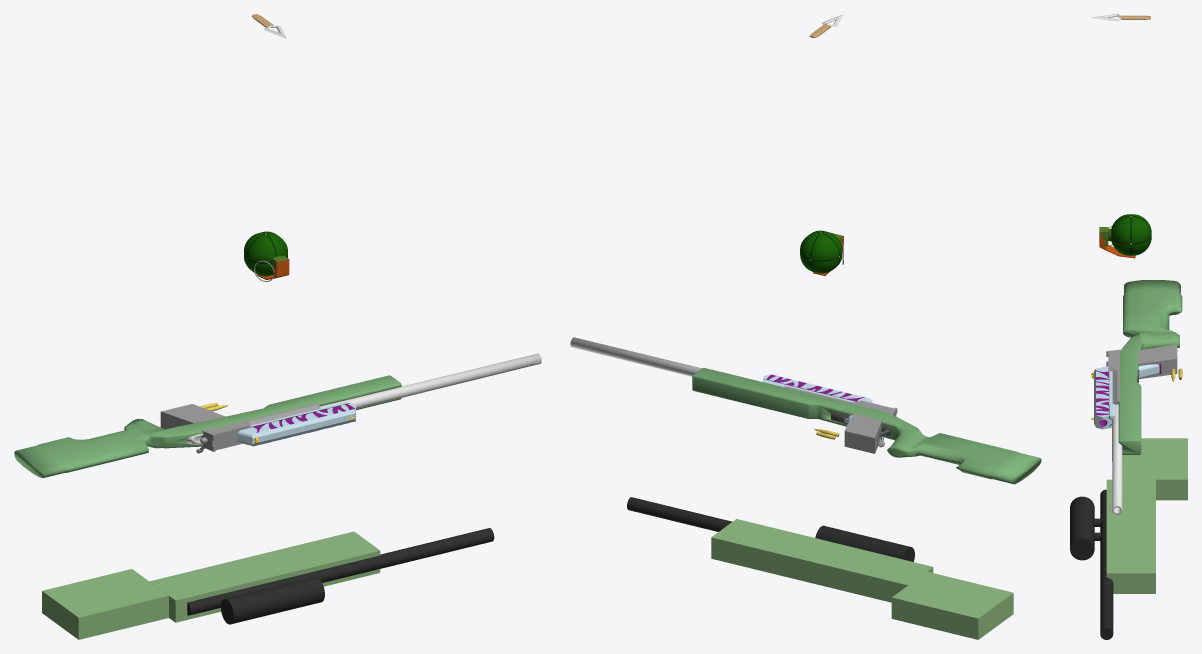
Rendered from weapons.glb.
The picture shows the model from 3 angles, left to right: view 1: azimuth 30°, elevation 25°; view 2: azimuth 150°, elevation 25°; view 3: azimuth 270°, elevation 25°; orthographic projection. The views are drawn at different scales.
Parts seen in each view (by area): view 1: sniper stock, stock, stock.001, Cylinder, Cylinder.003, Part 1, sniper barrel, pistol, plater; view 2: stock, sniper stock, stock.001, pistol, Cylinder.003, sniper barrel, Cylinder, plater, Part 1; view 3: sniper stock, stock, stock.001, pistol, Cylinder.003, Part 1, Cylinder, plater, sniper barrel, kniv, hair, cross.
Boxes of the visible parts, x1,y1,x2,y2 form: sniper stock: (14, 375, 401, 478); stock: (149, 531, 380, 622); stock.001: (42, 569, 168, 639); Cylinder: (187, 528, 494, 615); Cylinder.003: (220, 577, 324, 624); Part 1: (237, 402, 355, 446); sniper barrel: (186, 353, 541, 444); pistol: (160, 403, 320, 451); plater: (244, 231, 287, 276); stock: (711, 519, 933, 602); sniper stock: (692, 368, 1041, 484); stock.001: (891, 571, 1013, 639); pistol: (784, 386, 897, 453); Cylinder.003: (815, 525, 914, 561); sniper barrel: (570, 337, 701, 376); Cylinder: (627, 497, 731, 531); plater: (800, 230, 842, 273); Part 1: (762, 374, 872, 423); sniper stock: (1118, 280, 1182, 454); stock: (1106, 479, 1155, 593); stock.001: (1122, 438, 1187, 500); pistol: (1106, 344, 1177, 404); Cylinder.003: (1070, 496, 1094, 560); Part 1: (1091, 364, 1159, 429); Cylinder: (1100, 489, 1113, 639); plater: (1111, 214, 1151, 255); sniper barrel: (1112, 404, 1122, 514); kniv: (1090, 14, 1150, 21); hair: (1099, 232, 1135, 258); cross: (1111, 214, 1151, 255).
Size of the model in its own units: 32.37 by 35.75 by 7.19.
